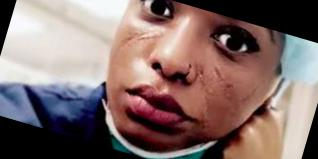mask_weared_incorrect: (88, 1, 266, 159)
